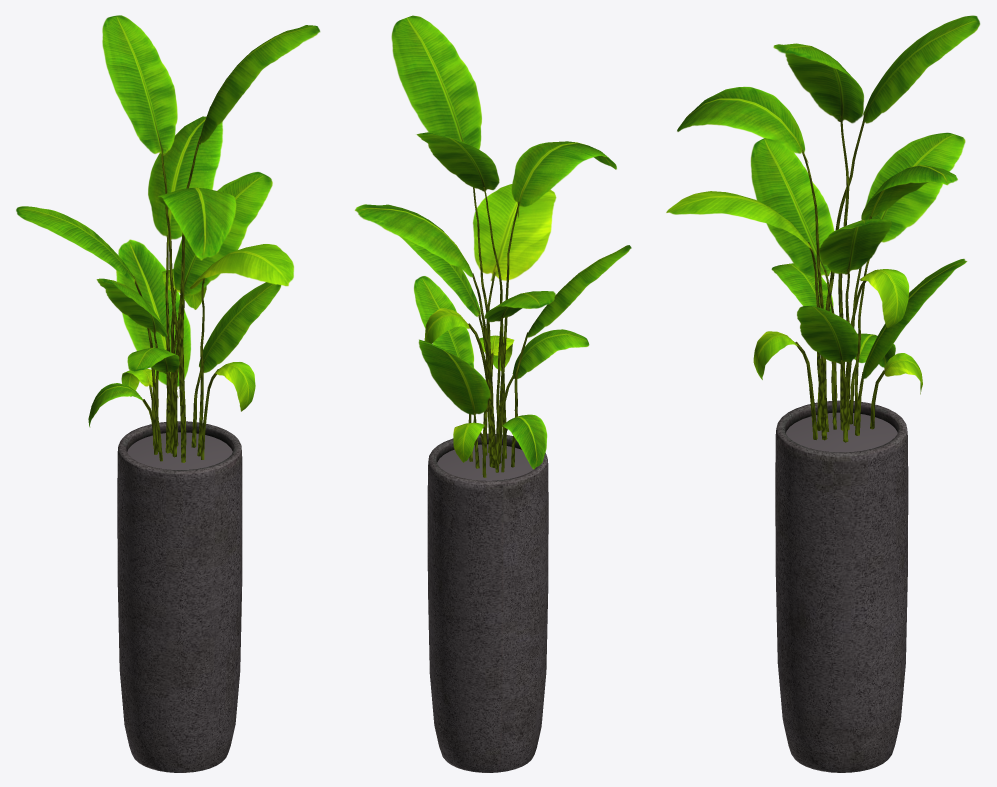
The model's file is VFATree.glb.
The picture shows the model from 3 angles, left to right: view 1: azimuth 30°, elevation 25°; view 2: azimuth 150°, elevation 25°; view 3: azimuth 270°, elevation 25°; orthographic projection. The views are drawn at different scales.
Visible parts, largest first — view 1: plant.001, pot.001; view 2: plant.001, pot.001; view 3: pot.001, plant.001.
Part boxes in pixels (bbox=[...]): plant.001: bbox=[16, 15, 320, 462]; pot.001: bbox=[117, 421, 242, 772]; plant.001: bbox=[355, 15, 631, 477]; pot.001: bbox=[427, 433, 548, 772]; pot.001: bbox=[775, 400, 908, 772]; plant.001: bbox=[666, 15, 980, 442].
Size of the model in its own units: 0.6076 by 1.74 by 0.6668.
Materials: 2 (2 with a texture image).
